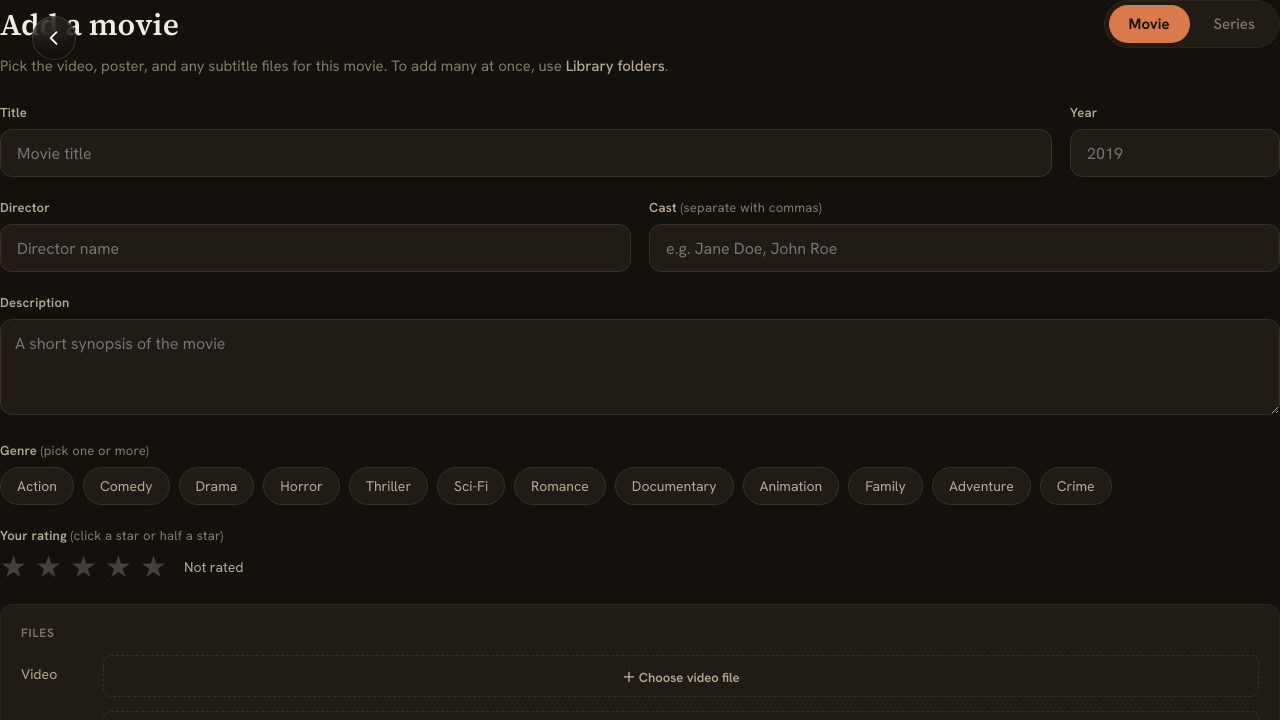
Test: MovieForm — the save gate › does not open on a director alone
Type "Alfred Hitchcock" into the field labelled "Director" at (316, 248), box [15, 225, 616, 271]
(page scrolled)
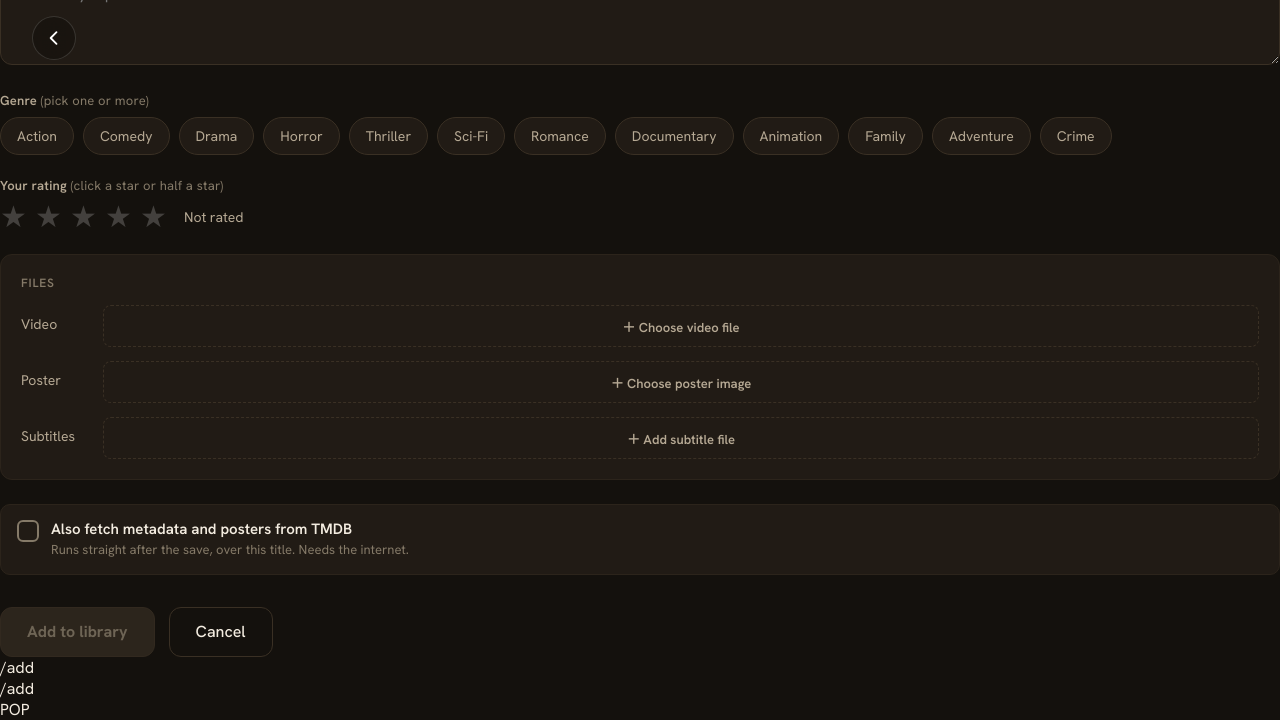
Now the button "Add to library" is disabled, box [0, 607, 155, 657]
